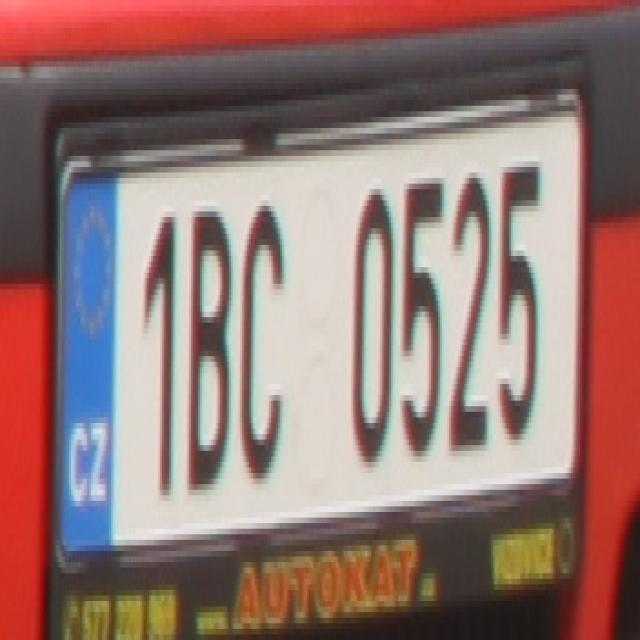0: (347, 189, 395, 462)
1: (144, 217, 174, 501)
2: (447, 172, 491, 451)
5: (498, 162, 540, 446), (400, 178, 438, 462)
B: (184, 200, 231, 484)
C: (240, 206, 284, 479)
